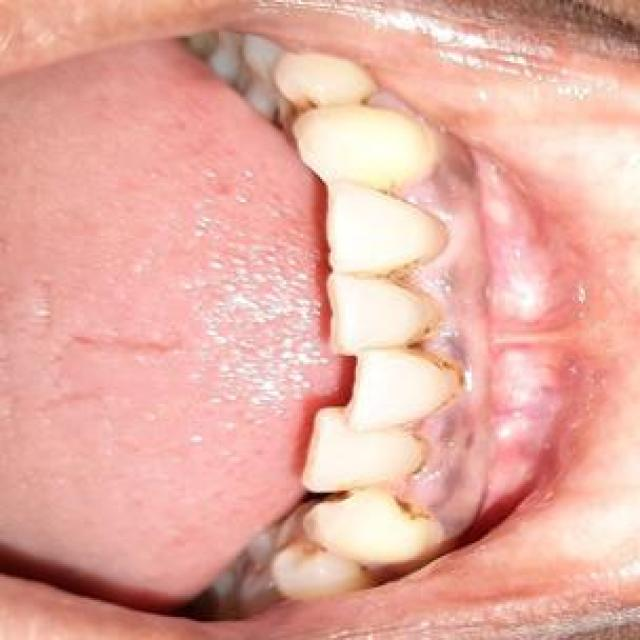processing_area: (0, 33, 348, 597), (362, 87, 588, 527)
